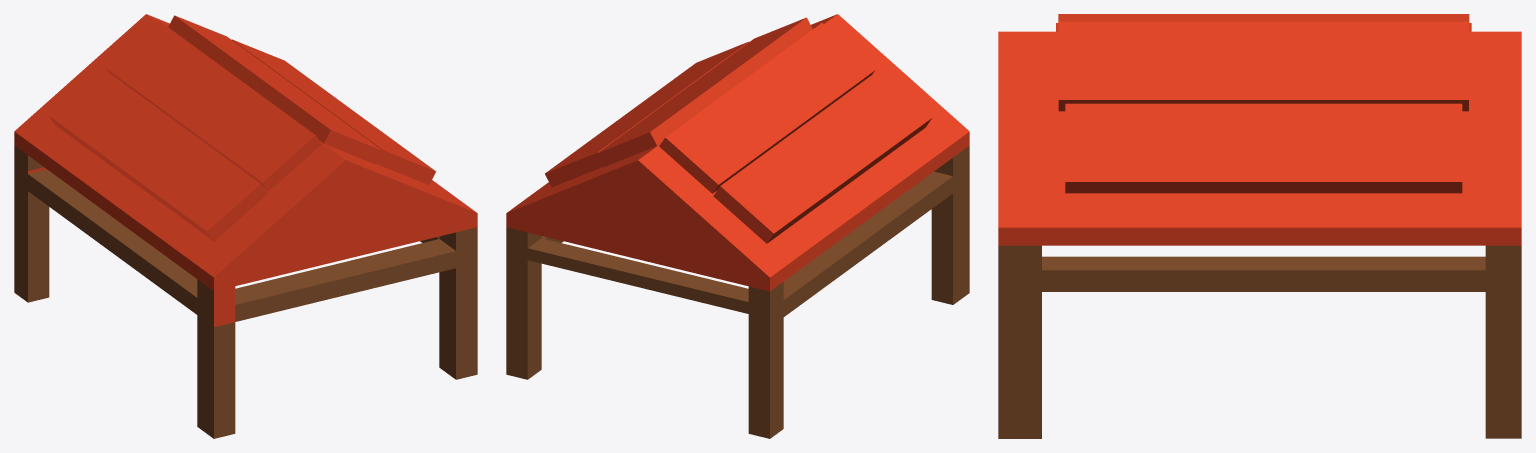
Rendered from GAMAYHOUSE1.fbx.
The picture shows the model from 3 angles, left to right: view 1: azimuth 30°, elevation 25°; view 2: azimuth 150°, elevation 25°; view 3: azimuth 270°, elevation 25°; orthographic projection. The views are drawn at different scales.
Visible parts, largest first — view 1: Cube; view 2: Cube; view 3: Cube.
Part boxes in pixels (x1,y1,x2,y2): Cube: (14,14,477,438); Cube: (506,14,969,438); Cube: (998,14,1521,438).
Bounding box in the file's own units: 2217 × 2073 × 2908.
